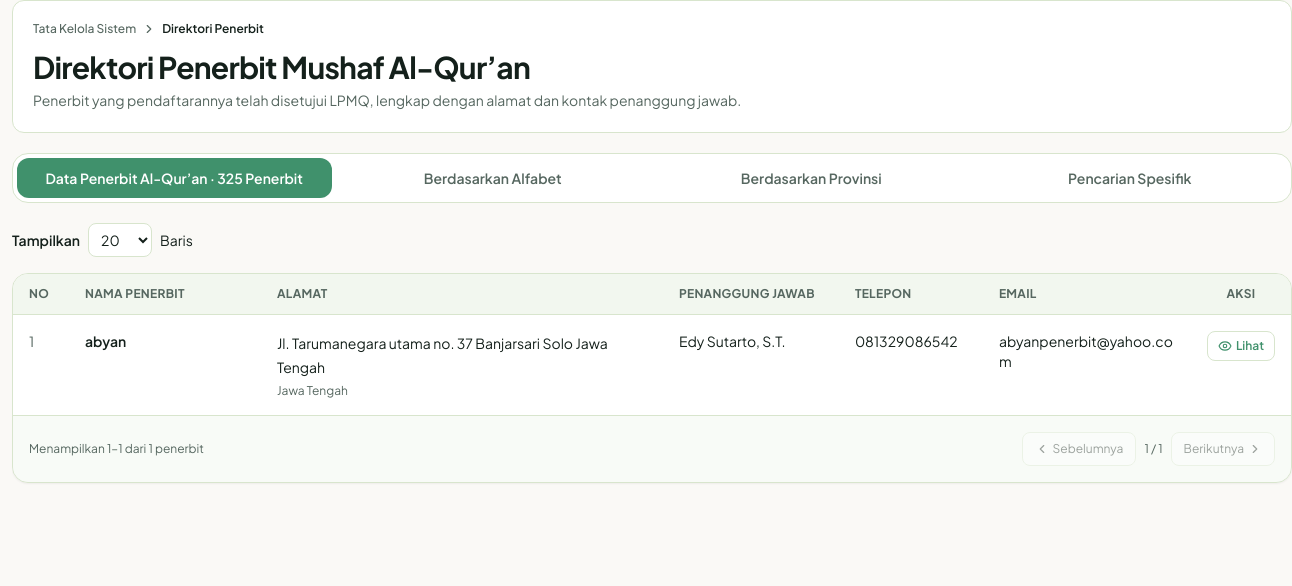
PublisherDirectoryPage › tab provinsi menampilkan jumlah per provinsi dan memfilter saat dipilih
Expected: the text "abyan" is shown, [69,315,261,415]
Click the tab "Berdasarkan Provinsi" at (811, 178), box [654,158,968,198]
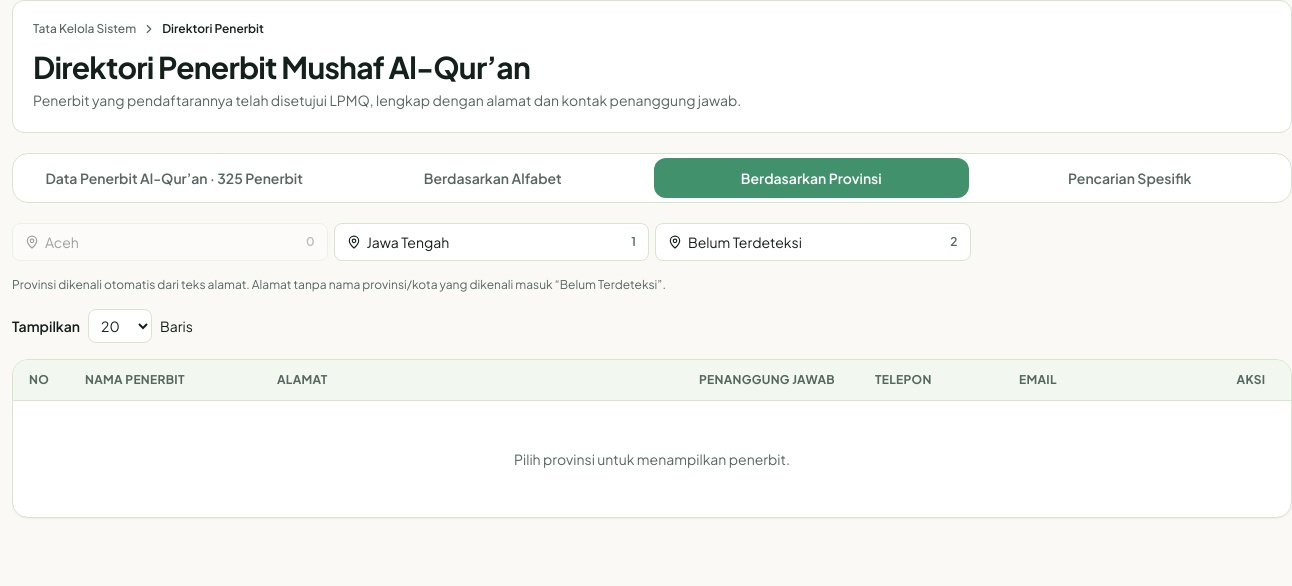
Result: the text "Pilih provinsi untuk menampilkan penerbit." is shown at [13,401,1291,517]
Result: the button "Aceh 0" is disabled at [12,223,328,261]
Click the button "Jawa Tengah 1" at (408, 242), box [334,223,649,261]
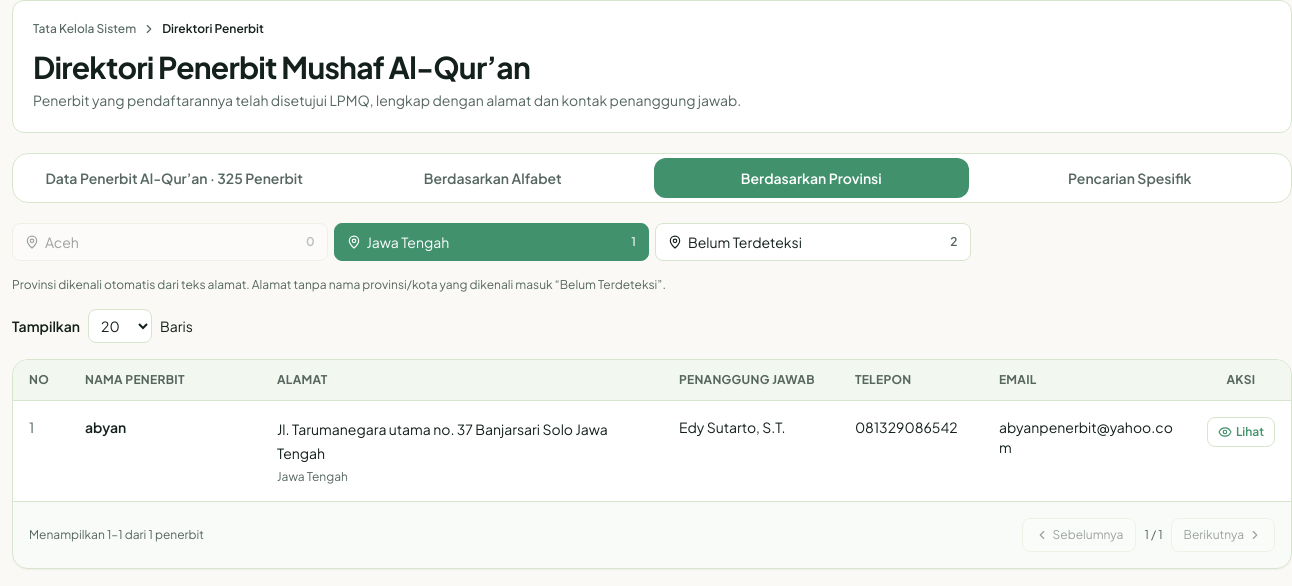
Result: the text "abyan" is shown at [69,401,261,501]
